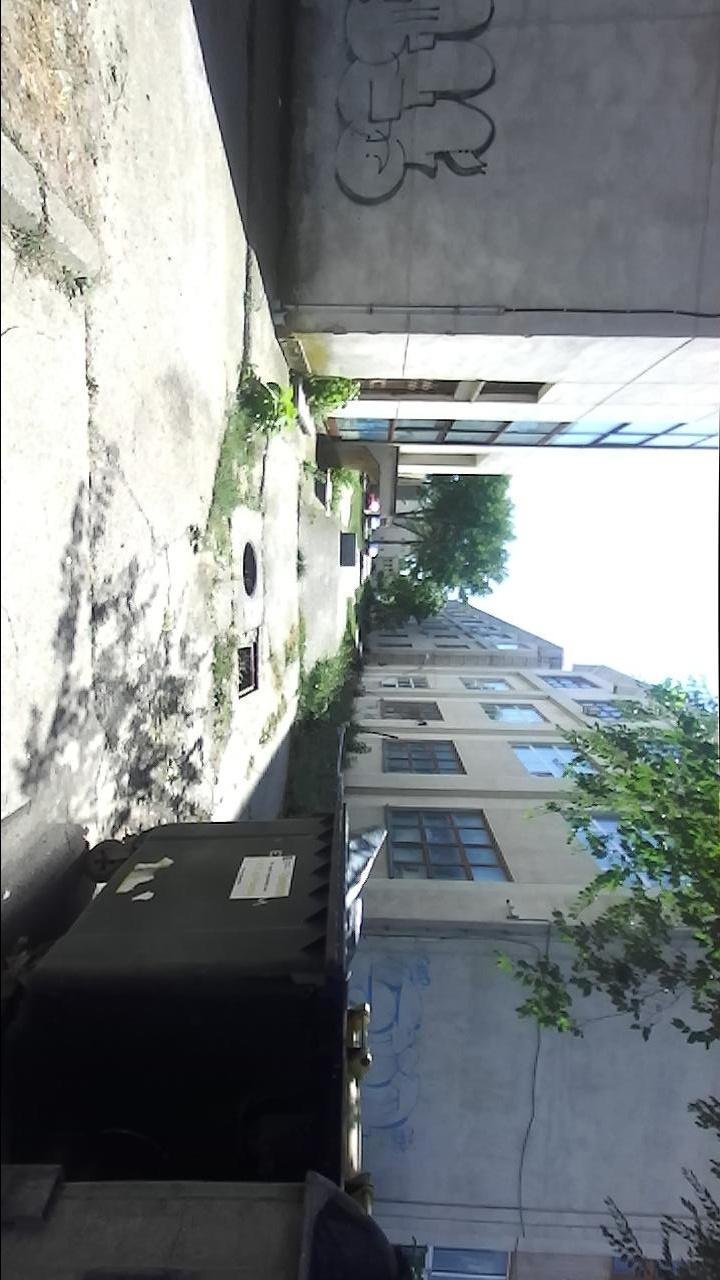drain: (231, 639, 261, 704), (236, 538, 261, 602)
